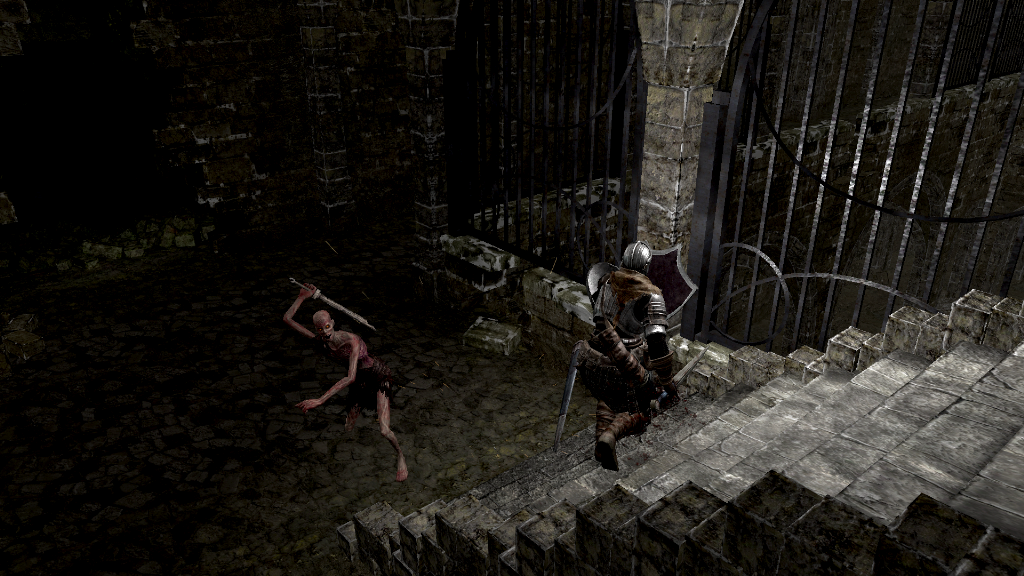hollow: (282, 280, 410, 482)
player: (574, 239, 712, 472)
